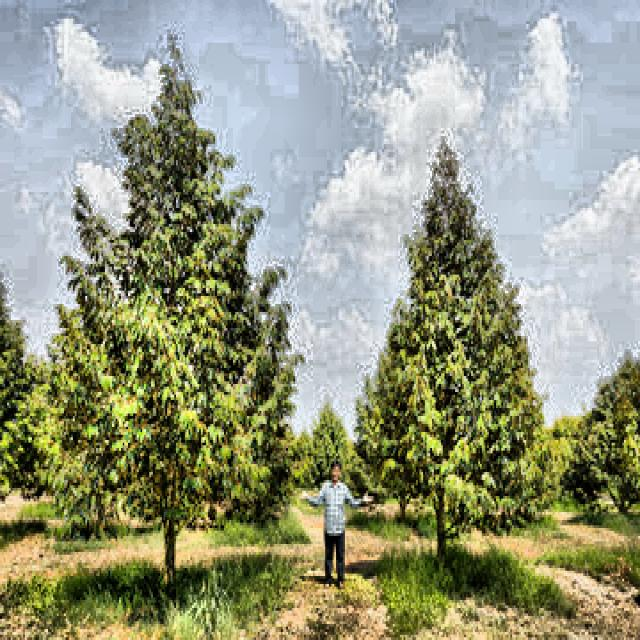arvore: (143, 392, 196, 618), (424, 439, 454, 581)
